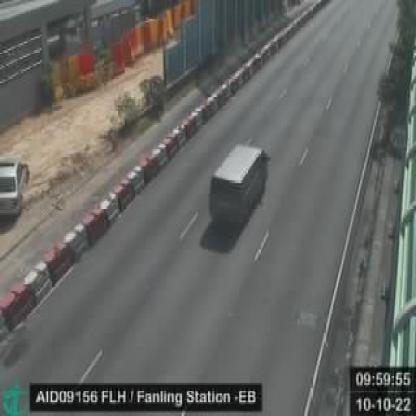Car: (210, 143, 269, 233), (1, 151, 27, 221)
